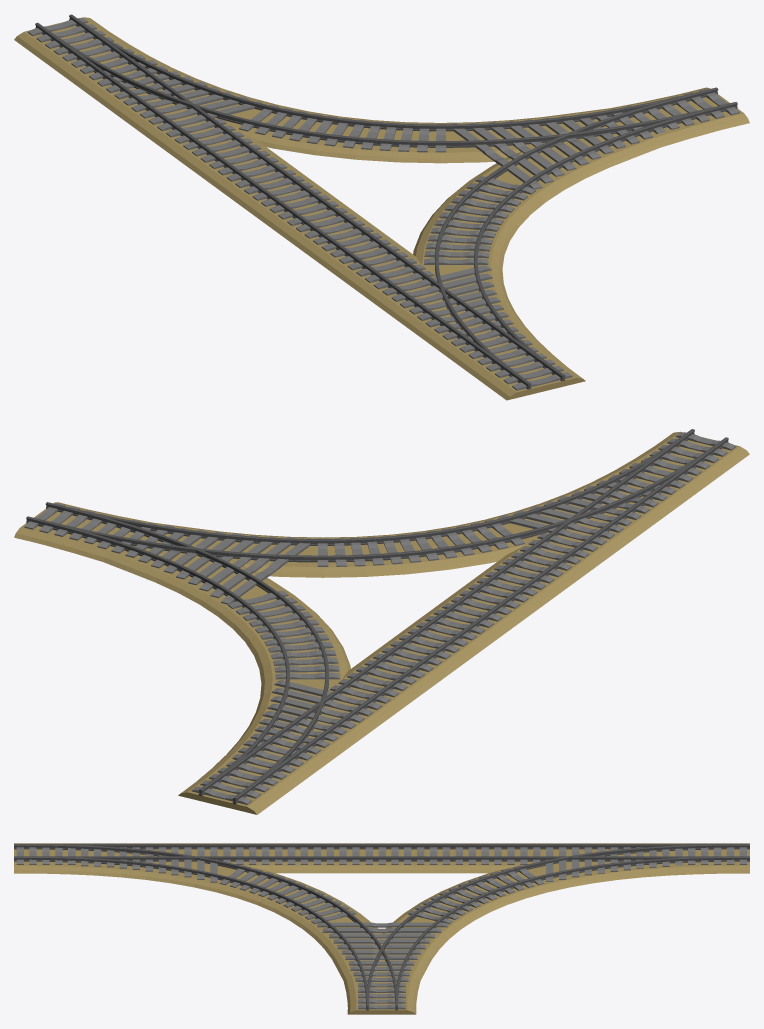
Rendered from tjoint.fbx.
The picture shows the model from 3 angles, top to bottom: view 1: azimuth 30°, elevation 25°; view 2: azimuth 150°, elevation 25°; view 3: azimuth 270°, elevation 25°; orthographic projection. The views are drawn at different scales.
Visible parts, largest first — view 1: tjoint; view 2: tjoint; view 3: tjoint.
Boxes of the visible parts, <box> form: tjoint: <box>14,14,749,400</box>; tjoint: <box>14,429,749,814</box>; tjoint: <box>14,843,749,1014</box>.
Bounding box in the file's own units: 2187 × 50.52 × 4000.
1 material, 1 textured.
